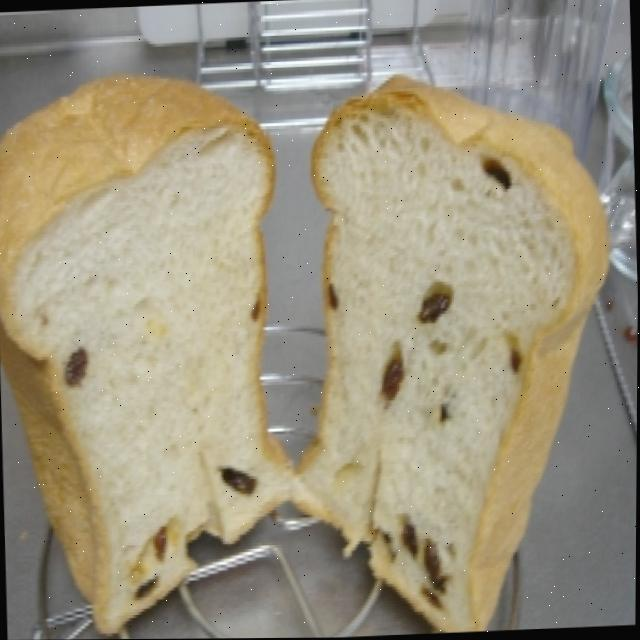面包点心: (0, 66, 640, 622)
